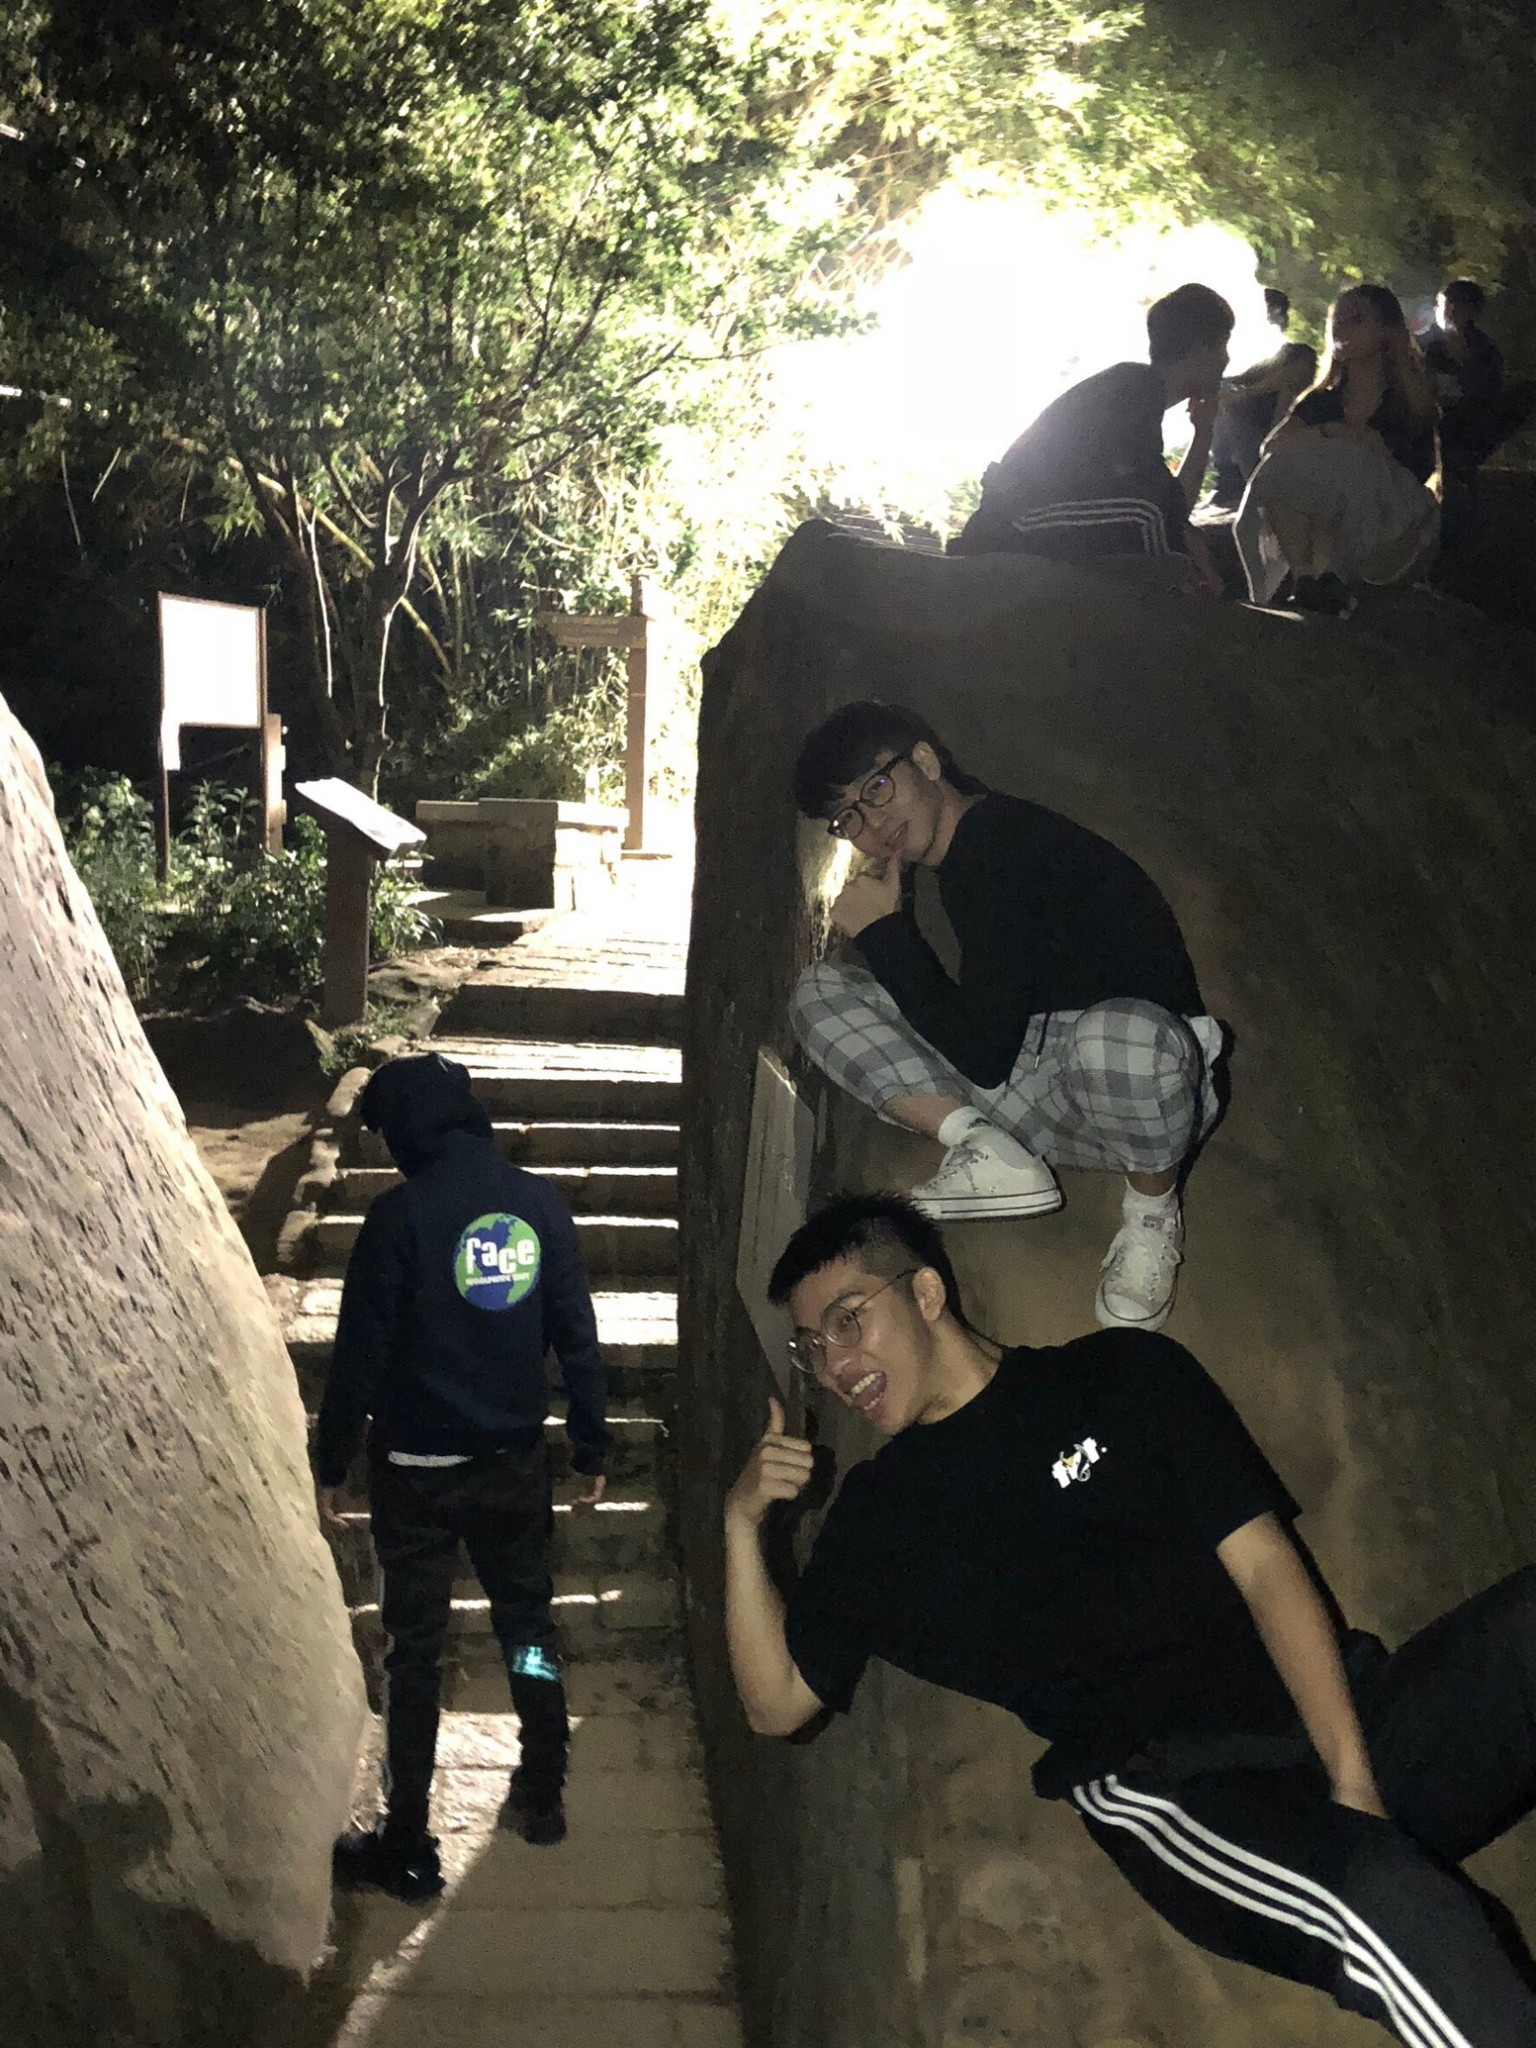people: (769, 1244, 1536, 2048), (802, 731, 1198, 1283), (344, 1067, 598, 1841), (1037, 299, 1282, 557), (1315, 293, 1466, 593)
